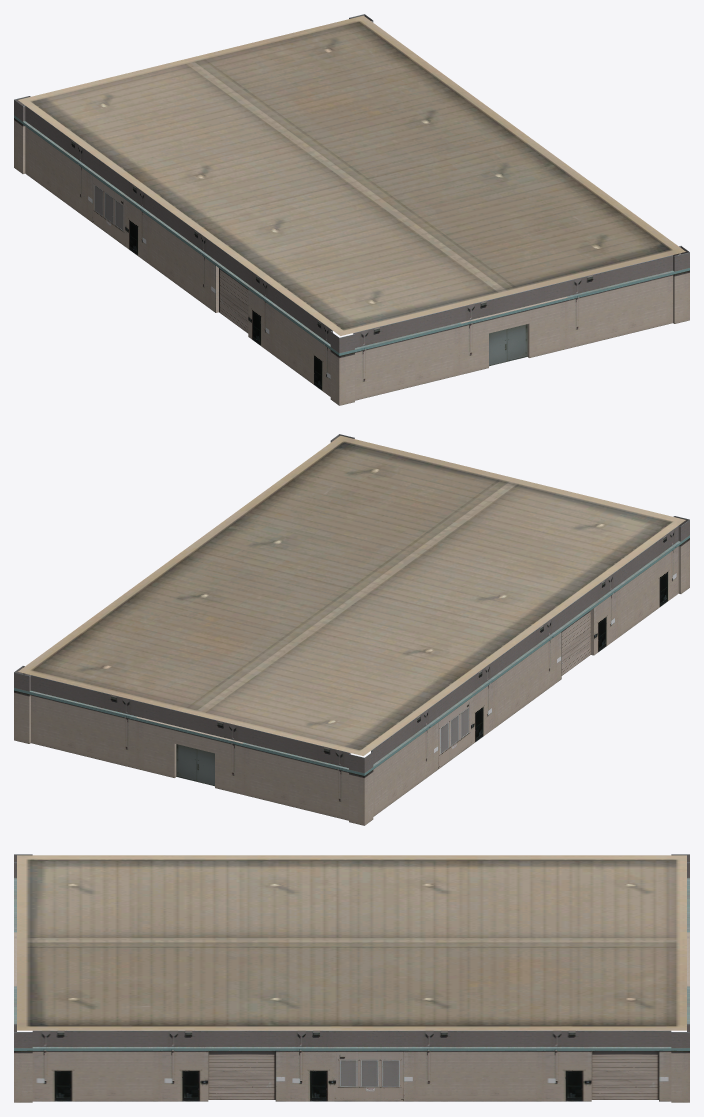
Rendered from vgnhseing43.obj.
3 views of the same model, one above another, from view 1: azimuth 30°, elevation 25°; view 2: azimuth 150°, elevation 25°; view 3: azimuth 270°, elevation 25° (orthographic). The views are drawn at different scales.
Parts seen in each view (by area): view 1: vgnhseing43; view 2: vgnhseing43; view 3: vgnhseing43.
Part boxes in pixels (bbox=[...]): vgnhseing43: bbox=[14, 14, 689, 405]; vgnhseing43: bbox=[14, 434, 689, 825]; vgnhseing43: bbox=[14, 854, 689, 1102].
Bounding box in the file's own units: 35.22 × 6.54 × 56.62.
Materials: 6 (6 with a texture image).
